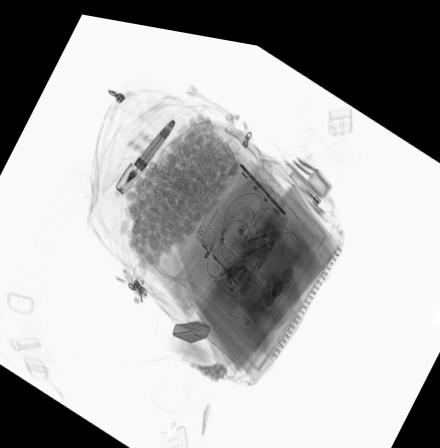Lighter: (288, 159, 322, 195)
